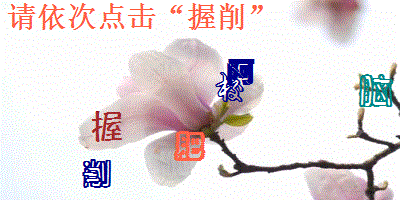text: (89, 108, 125, 144), (357, 73, 394, 108), (213, 71, 246, 105), (173, 130, 206, 162), (81, 157, 113, 189), (225, 57, 257, 87)
